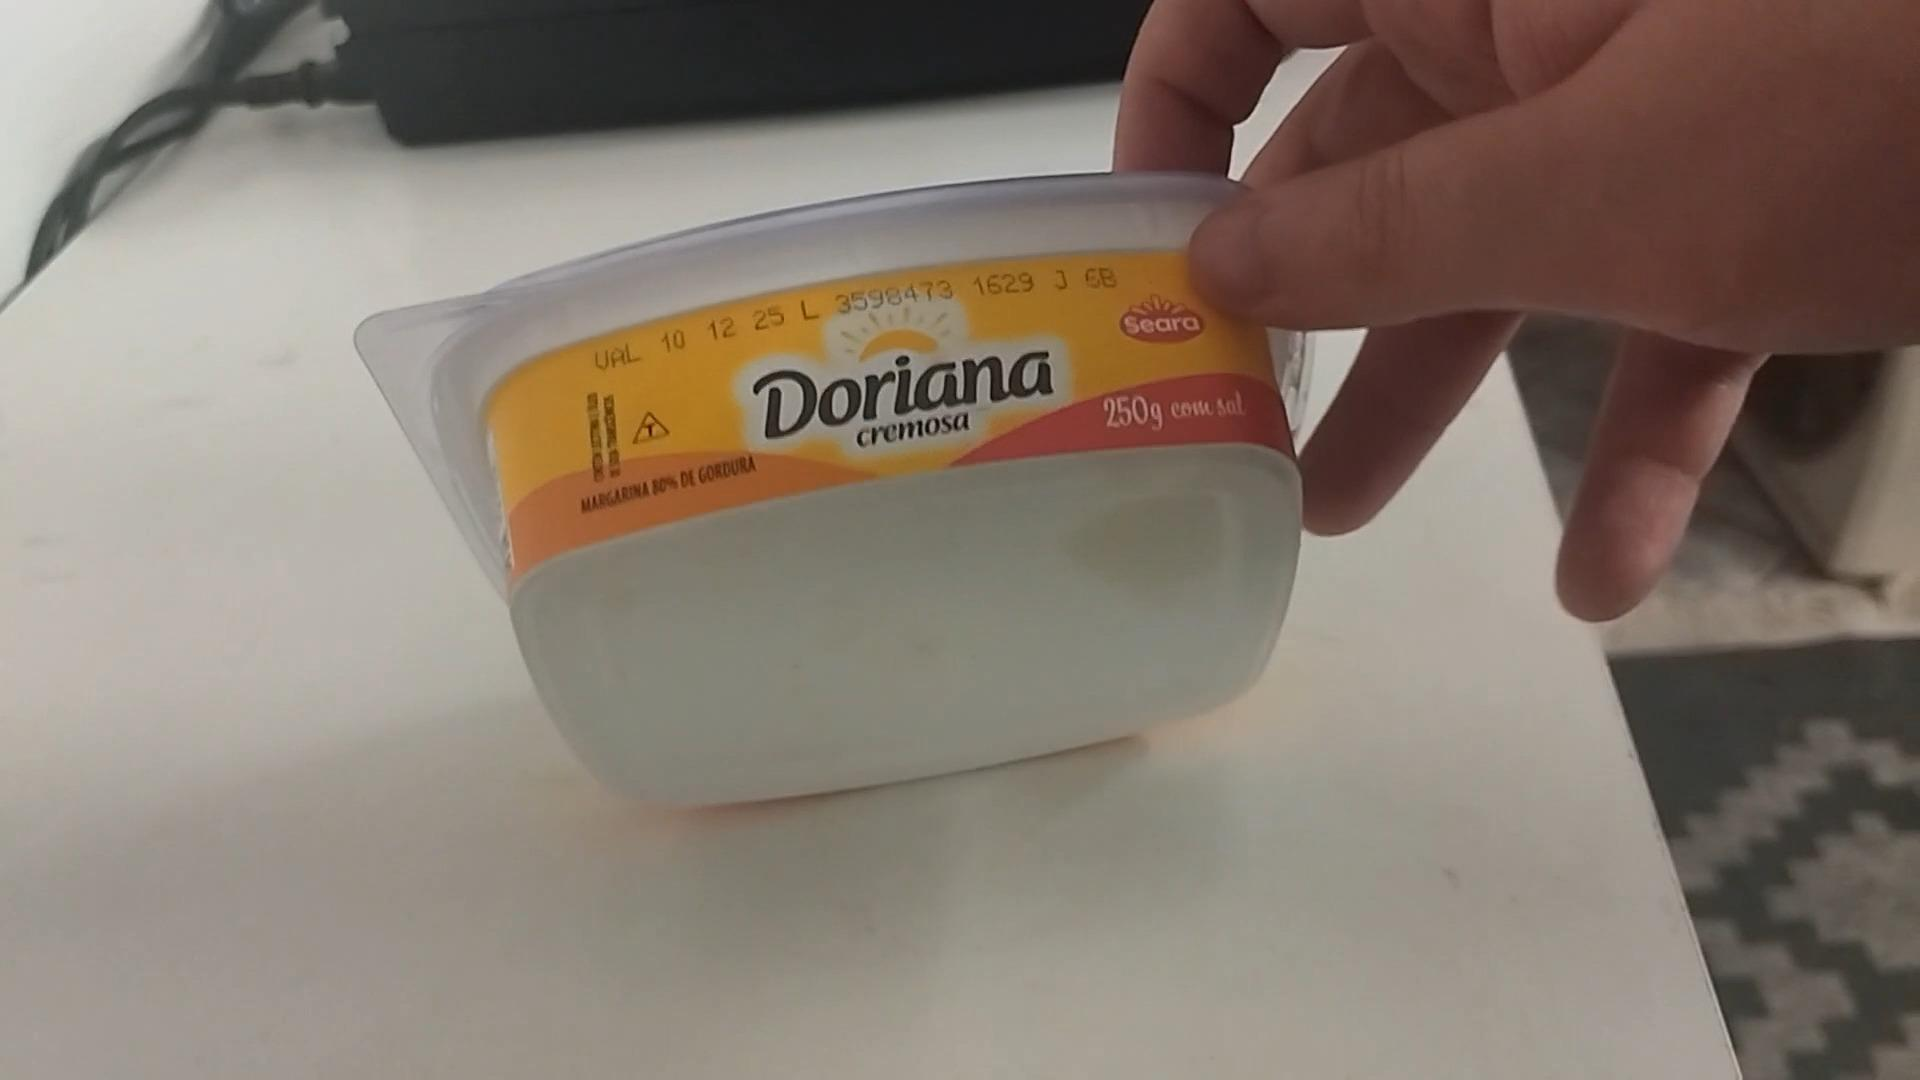butter: (367, 174, 1308, 804)
